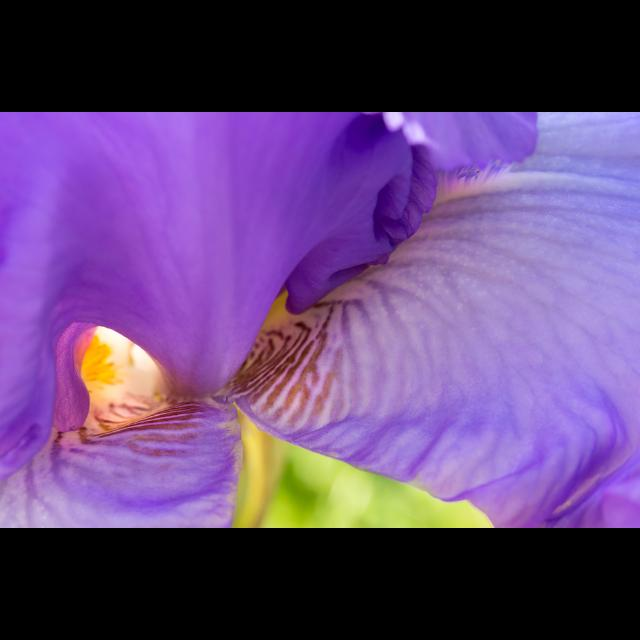Flower: (0, 112, 634, 512)
